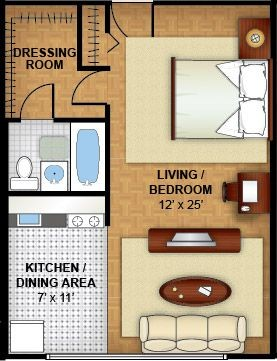door: (72, 72, 113, 108), (19, 84, 55, 118)
room: (6, 184, 277, 359), (3, 3, 111, 191)
wall: (1, 4, 15, 361), (266, 5, 277, 248), (105, 101, 119, 223), (70, 6, 92, 77), (151, 1, 274, 9), (10, 188, 106, 198), (52, 113, 106, 129)
